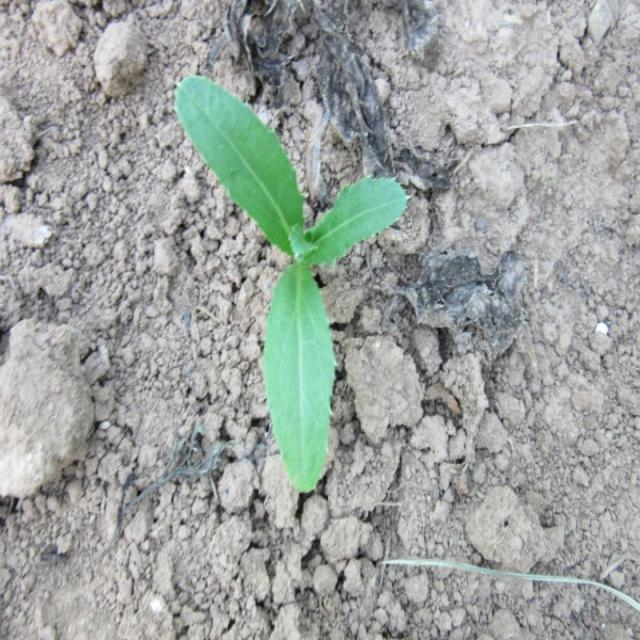cs: (173, 74, 410, 497)
